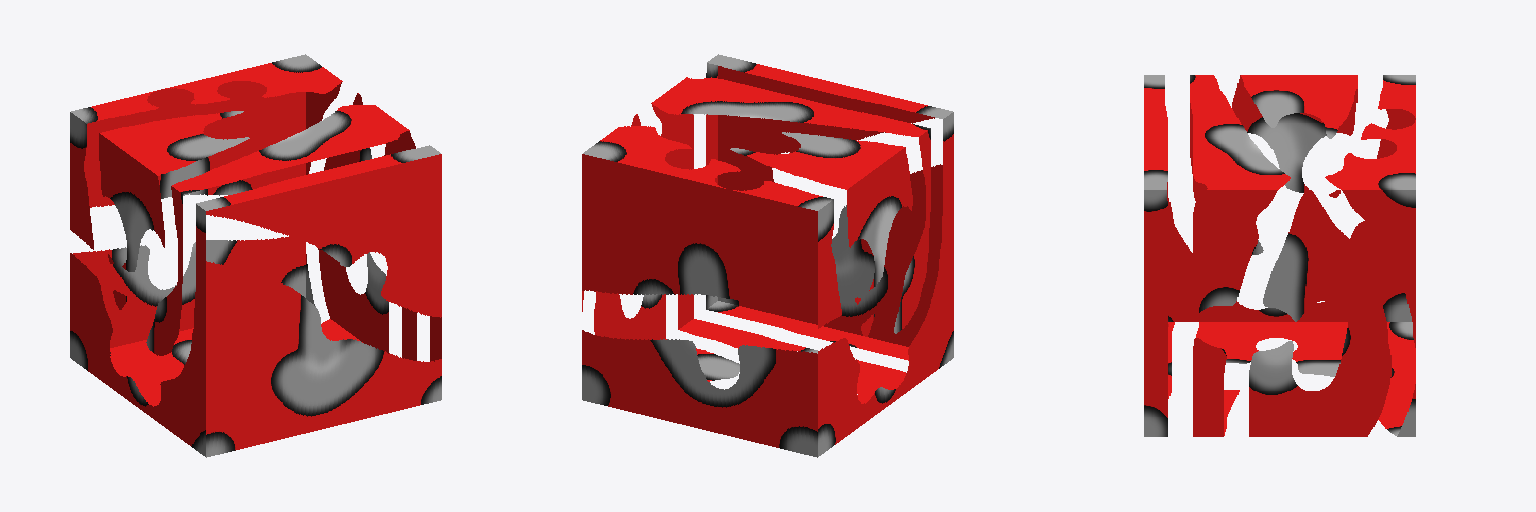
3 views of the same model, side by side, from view 1: azimuth 30°, elevation 25°; view 2: azimuth 150°, elevation 25°; view 3: azimuth 270°, elevation 25° (orthographic).
Parts seen in each view (by area): view 1: supercube; view 2: supercube; view 3: supercube.
Boxes of the visible parts, <box> form: supercube: <box>70,54,441,457</box>; supercube: <box>582,54,953,457</box>; supercube: <box>1144,75,1415,436</box>.
Bounding box in the file's own units: 2 × 2 × 2.
Materials: 1 (1 with a texture image).